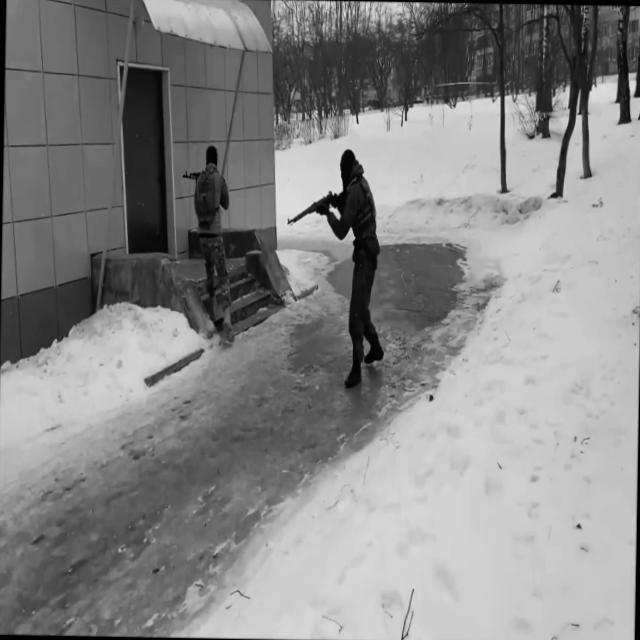gun: (286, 188, 346, 229), (182, 167, 206, 182)
person with a gun: (283, 145, 389, 391), (179, 143, 239, 344)
